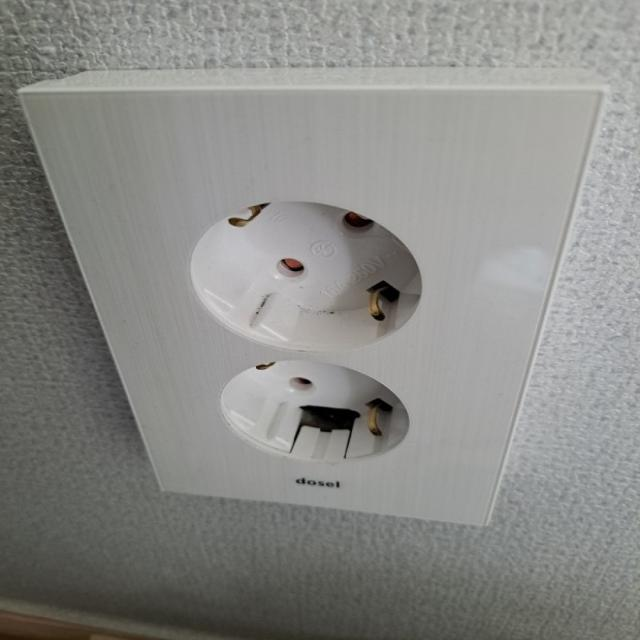typeb: (19, 43, 622, 583)
